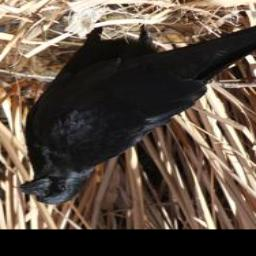Crow: (14, 24, 256, 206)
